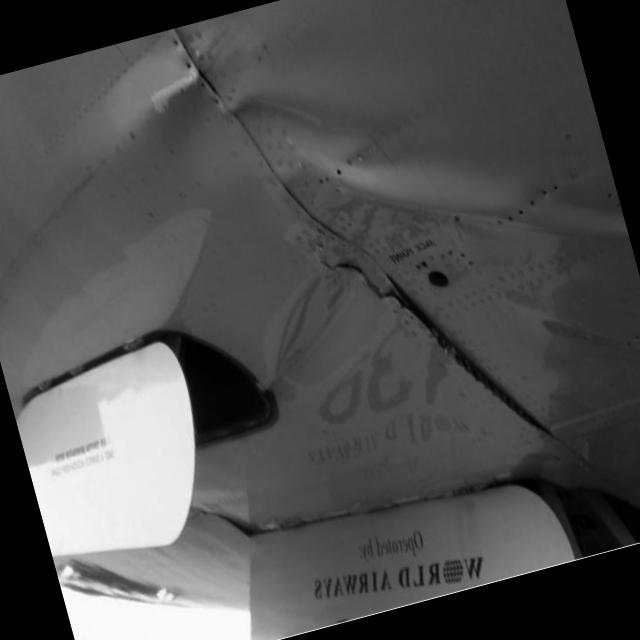crack: (318, 232, 412, 332)
dent: (290, 56, 627, 311)
